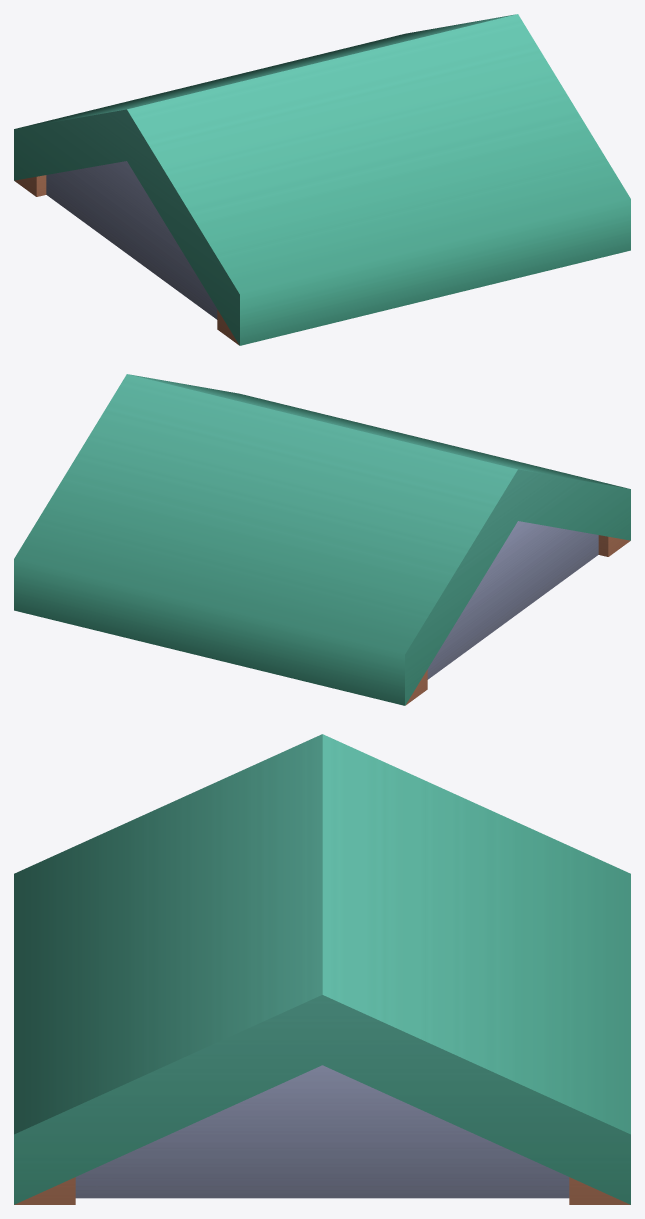
File: roof-gable-top.fbx
3 renders of one model, top to bottom at view 1: azimuth 30°, elevation 25°; view 2: azimuth 150°, elevation 25°; view 3: azimuth 270°, elevation 25°, orthographic. The views are drawn at different scales.
Parts seen in each view (by area): view 1: roof-gable-top; view 2: roof-gable-top; view 3: roof-gable-top.
Boxes of the visible parts, x1=… form: roof-gable-top: x1=14, y1=14, x2=630, y2=345; roof-gable-top: x1=14, y1=374, x2=630, y2=705; roof-gable-top: x1=14, y1=734, x2=630, y2=1204.
Size of the model in its own units: 100 by 37.59 by 100.
Materials: 1 (1 with a texture image).
